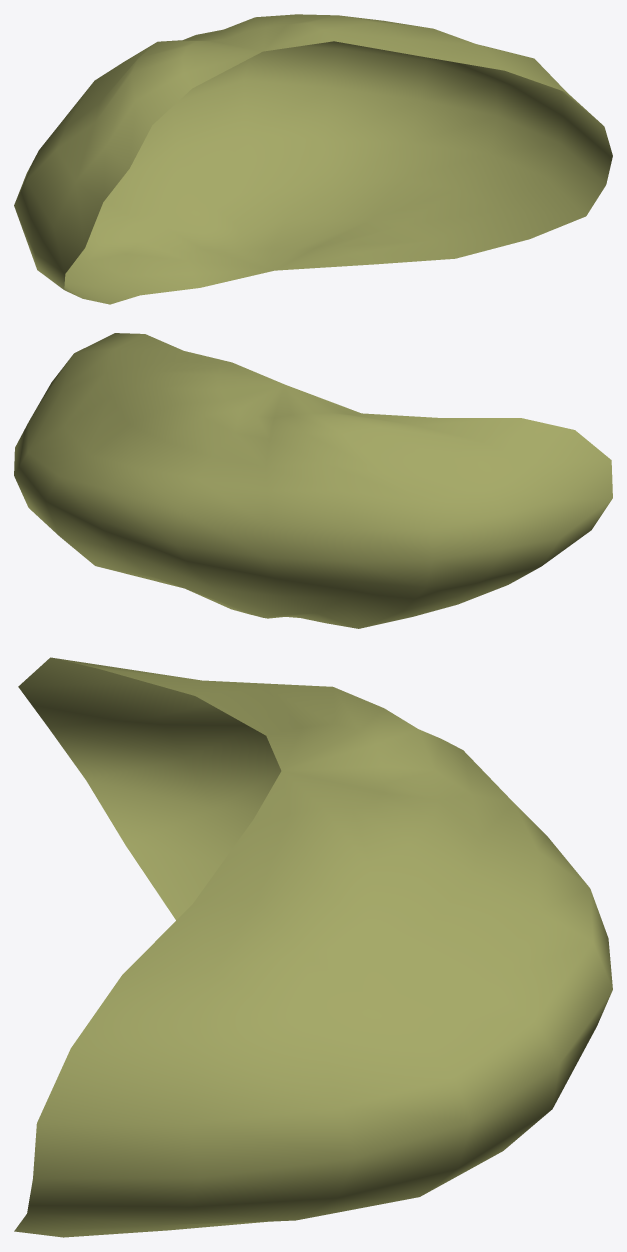
File: placenta_manta.fbx
The picture shows the model from 3 angles, top to bottom: view 1: azimuth 30°, elevation 25°; view 2: azimuth 150°, elevation 25°; view 3: azimuth 270°, elevation 25°; orthographic projection. The views are drawn at different scales.
Visible parts, largest first — view 1: placenta001; view 2: placenta001; view 3: placenta001.
Part boxes in pixels (box(x1,y1,x2,y2)): placenta001: box(14, 14, 612, 304); placenta001: box(14, 333, 612, 628); placenta001: box(14, 657, 612, 1237).
Size of the model in its own units: 14.74 by 5.95 by 8.58.
